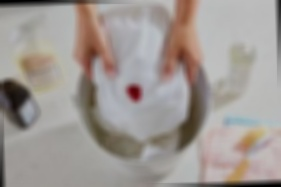blood: (125, 83, 143, 102)
